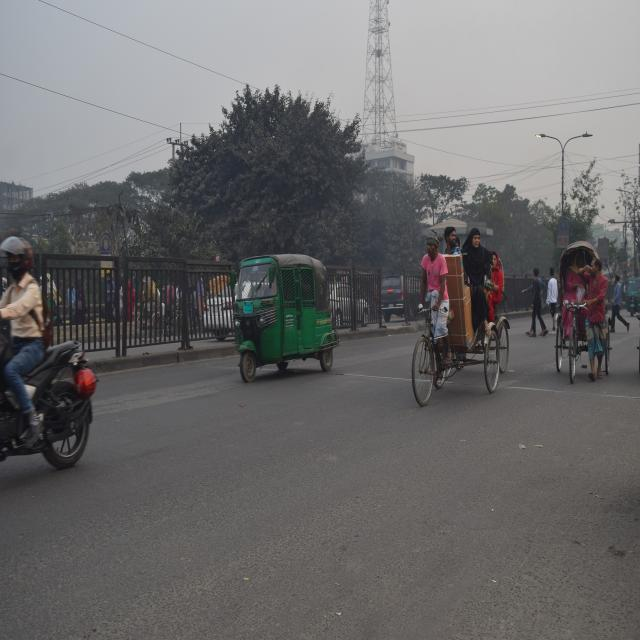motorbike: (0, 322, 132, 490)
